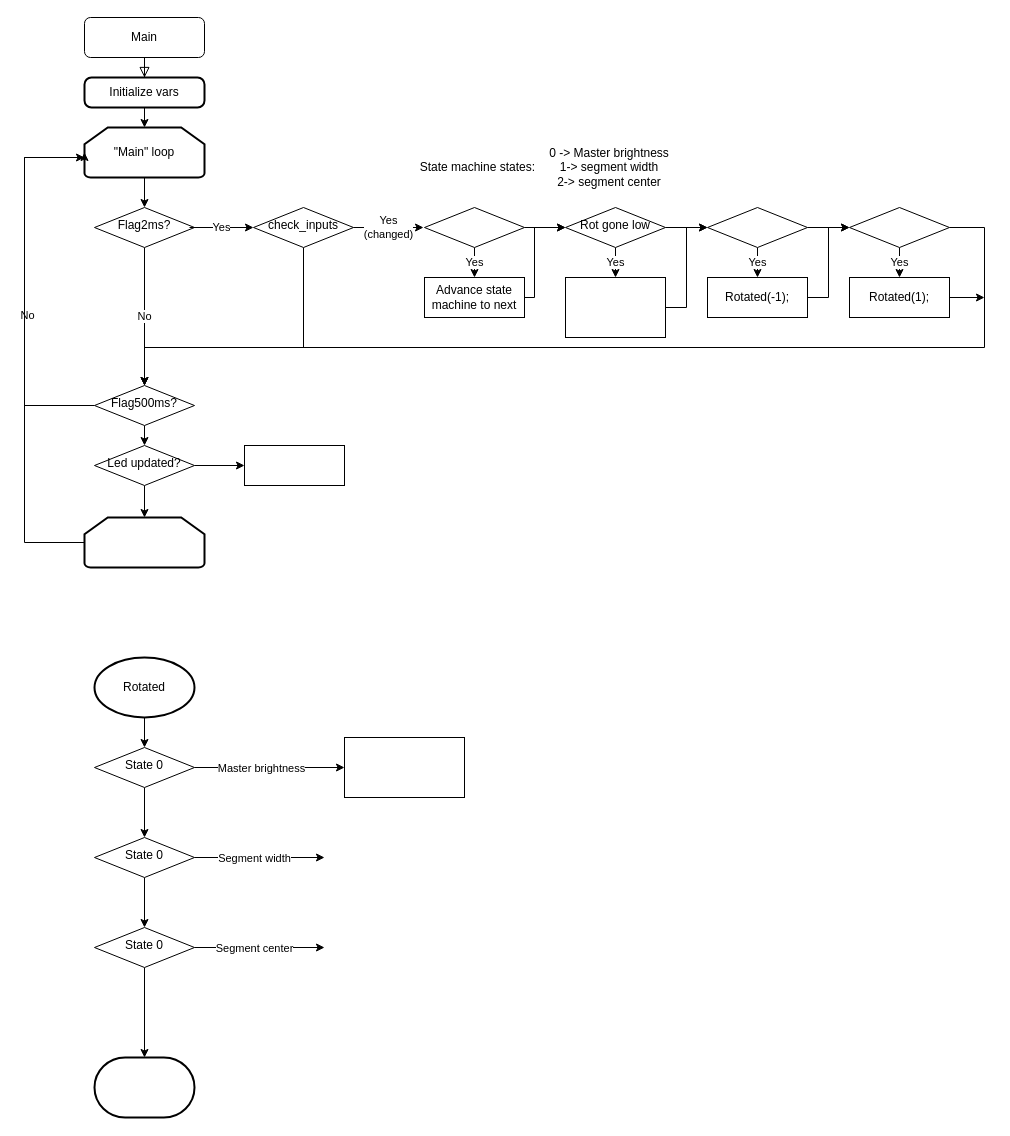
The diagram is 1010 pixels wide and 1136 high, and some of its shapes have lost their labels. The centre of each missing label's shape, as x and y in pixels:
CCW: (x=757, y=227)
CW: (x=899, y=227)
Don't do anything yet (can be used for long press): (x=615, y=307)
End "main"loop: (x=144, y=542)
Rot gone high: (x=474, y=227)
Set new state: (x=294, y=465)
Update Master brightness value: (x=404, y=767)
